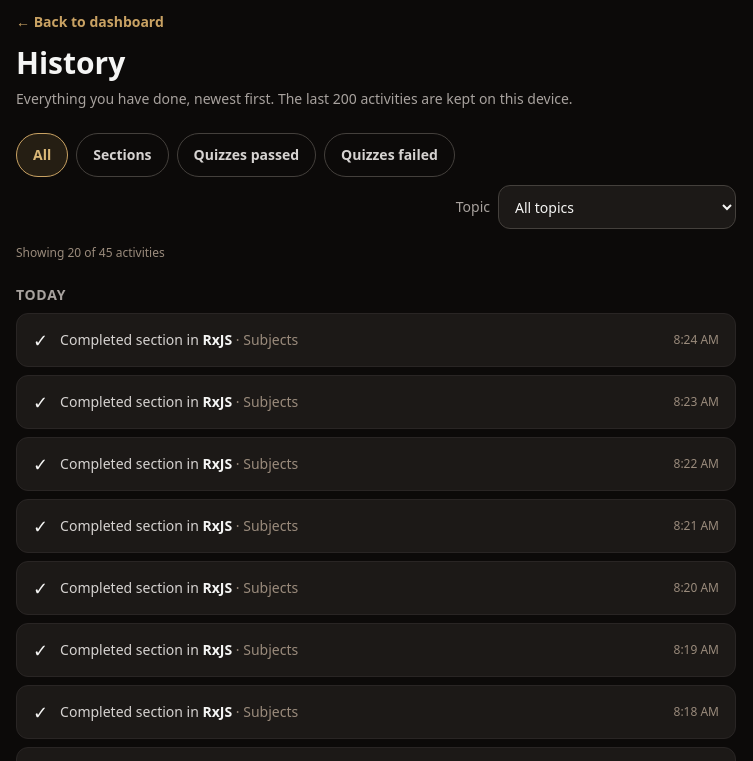
Test: HistoryComponent › filters by topic
Select "Data Binding" in the dropdown with test id "topic-filter" at (617, 207), box x1=498 y1=185 x2=736 y2=229
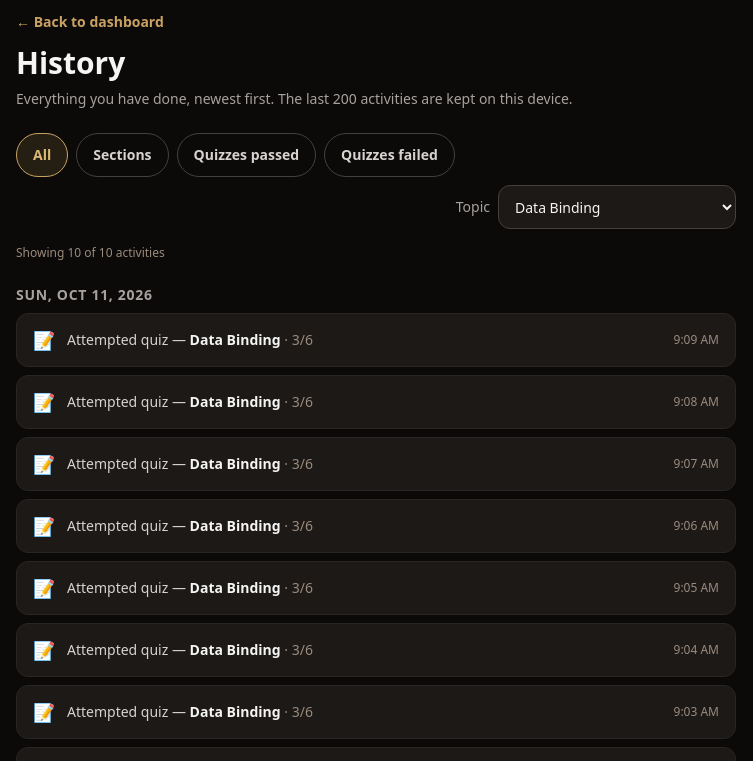
Check: the number of links with test id "history-entry" is 10
